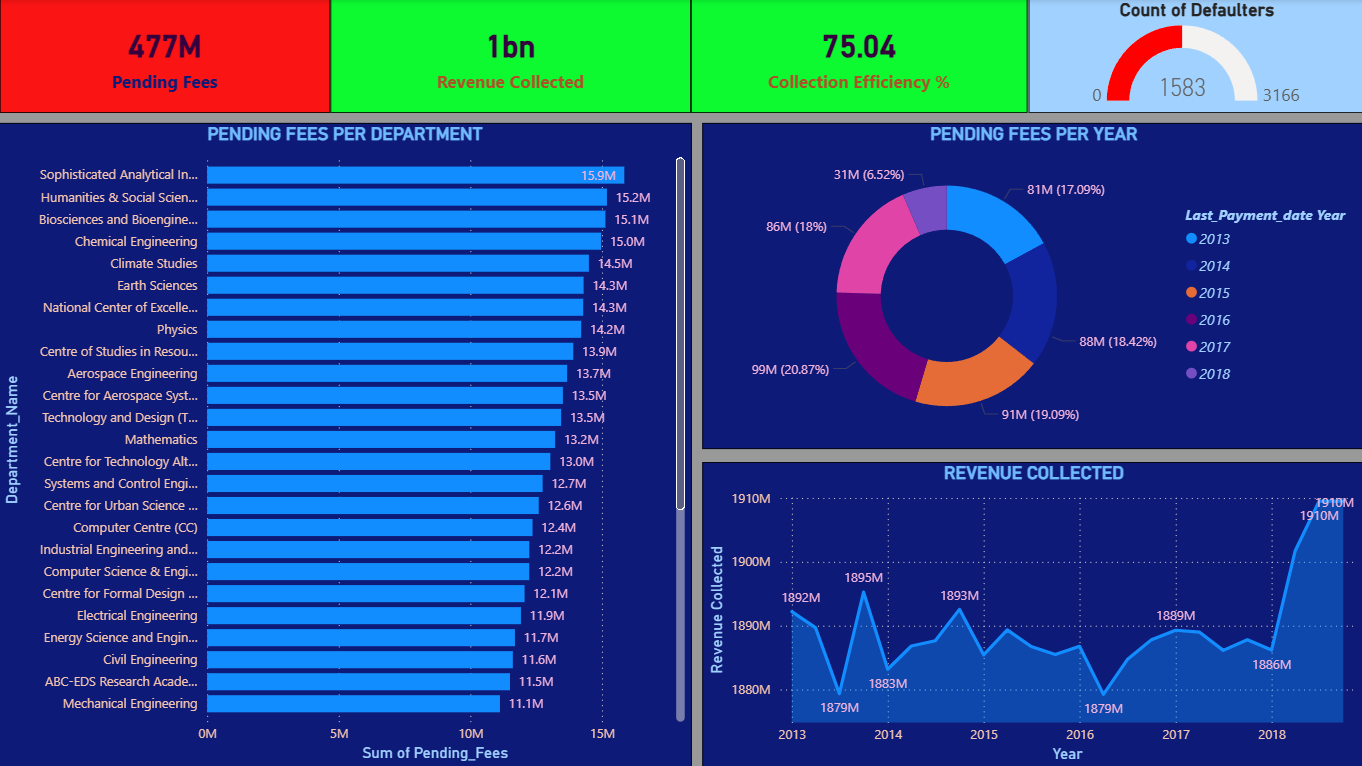

The dashboard page shown, as its layout file describes it:
{"tool":"powerbi","page":{"name":"Financial 1","canvas":[1280,720],"ordinal":3},"visuals":[{"type":"donutChart","title":"PENDING FEES PER YEAR","fields":{"Category":["Financials.Last_Payment_date.Variation.Date Hierarchy.Year1"],"Y":["Sum(Financials.Pending_Fees)"]},"box":[660.1,116.3,619.5,305.5],"z":0},{"type":"card","title":"Total Fees Due","fields":{"Values":["Sum(Financials.Pending_Fees)"]},"box":[2.8,0,309.7,106.5],"z":1000},{"type":"card","fields":{"Values":["Table.Revenue Collected"]},"box":[312.5,0,337.8,106.5],"z":2000},{"type":"card","fields":{"Values":["Table.Collection Efficiency %"]},"box":[650.3,0,315.4,106.5],"z":3000},{"type":"barChart","title":"PENDING FEES PER DEPARTMENT","fields":{"Y":["Sum(Financials.Pending_Fees)"],"Category":["Dept Details.Department_Name"]},"box":[0,116.3,650.3,604.1],"z":4000},{"type":"areaChart","title":"REVENUE COLLECTED","fields":{"Y":["Table.Revenue Collected"],"Category":["Financials.Last_Payment_date.Variation.Date Hierarchy.Year1","Financials.Last_Payment_date.Variation.Date Hierarchy.Quarter"]},"box":[660.1,433.1,619.5,287.3],"z":5000},{"type":"gauge","fields":{"Y":["Table.Count of Defaulters"]},"box":[965.7,0,314,106.5],"z":6000}]}

Visuals, with their boxes in screenshot pixels (x1, y1, x2, y2), scaled from the page's 1280x720 canvas onto the 1362x766 screenshot:
"PENDING FEES PER YEAR" donutChart: x1=702, y1=124, x2=1361, y2=449
"Total Fees Due" card: x1=3, y1=0, x2=333, y2=113
card - Table.Revenue Collected: x1=333, y1=0, x2=692, y2=113
card - Table.Collection Efficiency %: x1=692, y1=0, x2=1028, y2=113
"PENDING FEES PER DEPARTMENT" barChart: x1=0, y1=124, x2=692, y2=765
"REVENUE COLLECTED" areaChart: x1=702, y1=461, x2=1361, y2=765
gauge - Table.Count of Defaulters: x1=1028, y1=0, x2=1361, y2=113
